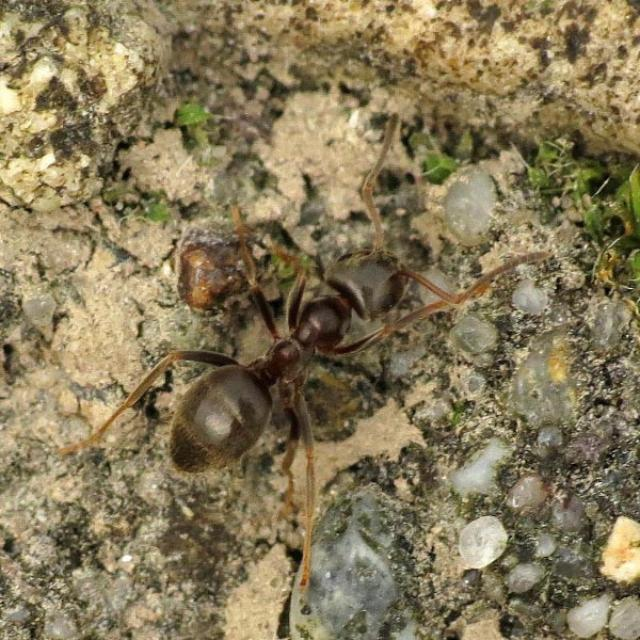Lasius: (122, 194, 454, 483)
